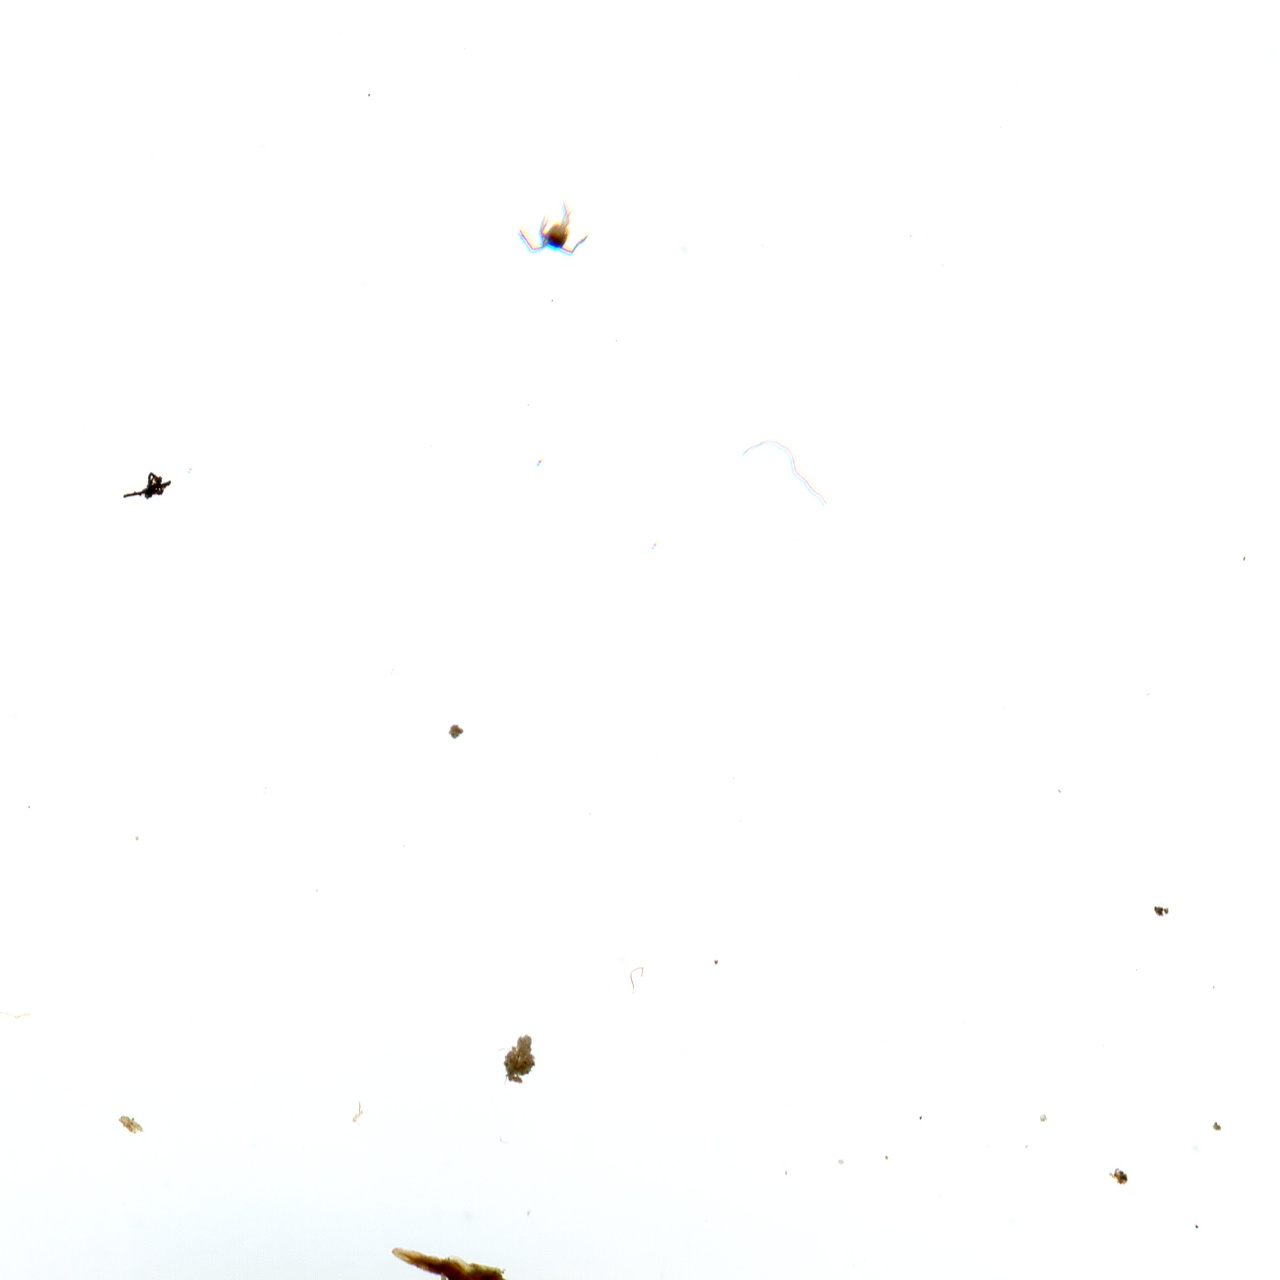arthropod: (512, 200, 593, 259)
